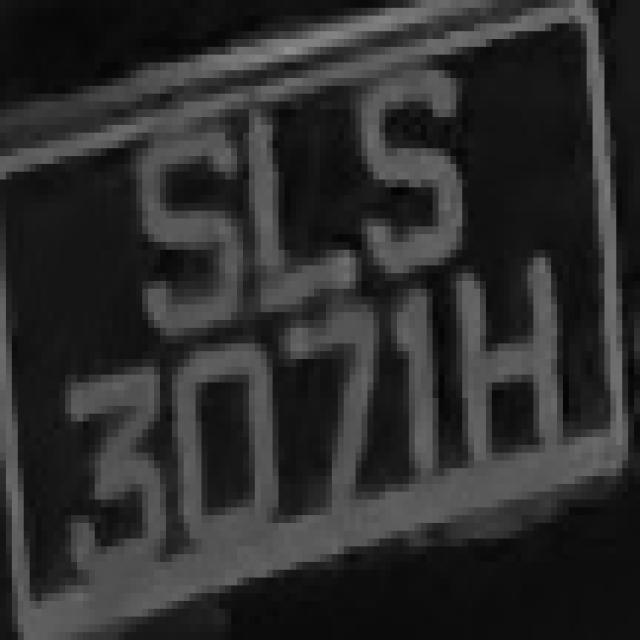0: (148, 336, 296, 578)
1: (368, 296, 450, 546)
3: (35, 367, 172, 577)
7: (261, 304, 391, 523)
H: (432, 273, 586, 515)
L: (214, 78, 356, 320)
S: (113, 94, 243, 359), (326, 55, 474, 281)
